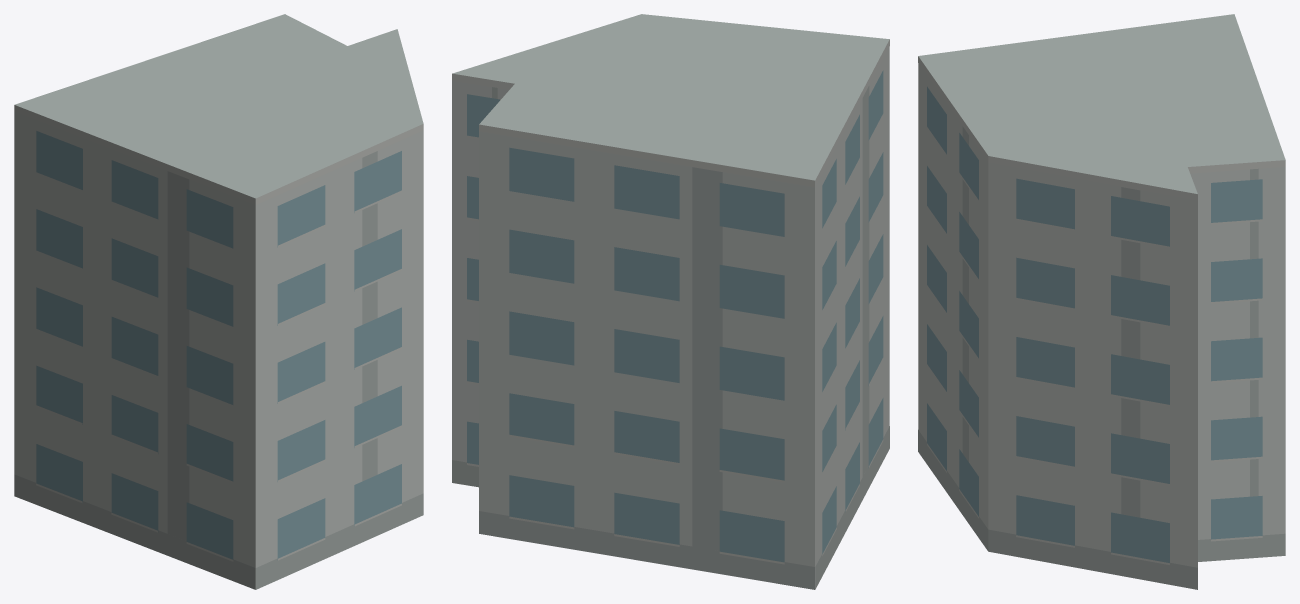
File: survey-upis-32984610.glb
3 renders of one model, left to right at view 1: azimuth 30°, elevation 25°; view 2: azimuth 150°, elevation 25°; view 3: azimuth 270°, elevation 25°, orthographic. The views are drawn at different scales.
Parts seen in each view (by area): view 1: survey-upis-32984610.tmp; view 2: survey-upis-32984610.tmp; view 3: survey-upis-32984610.tmp.
Part boxes in pixels (box(x1,y1,x2,y2)): survey-upis-32984610.tmp: box(14, 14, 423, 589); survey-upis-32984610.tmp: box(452, 14, 889, 589); survey-upis-32984610.tmp: box(918, 14, 1285, 589).
Size of the model in its own units: 13.93 by 14.25 by 12.01.
